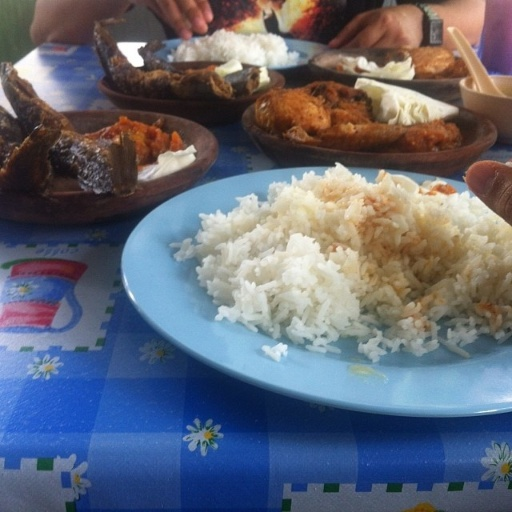hand: (323, 2, 425, 59), (141, 0, 216, 44)
